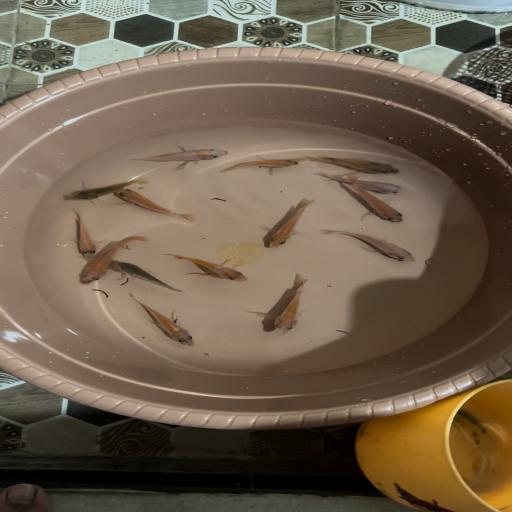nila: (320, 226, 424, 268), (75, 232, 148, 288), (336, 172, 409, 227), (124, 298, 202, 349), (263, 275, 326, 337), (254, 199, 320, 250), (109, 186, 202, 222), (167, 250, 250, 288), (301, 151, 410, 176), (128, 140, 229, 166), (114, 258, 184, 294), (64, 170, 144, 201), (310, 172, 406, 196), (56, 212, 101, 257), (216, 155, 300, 178)
